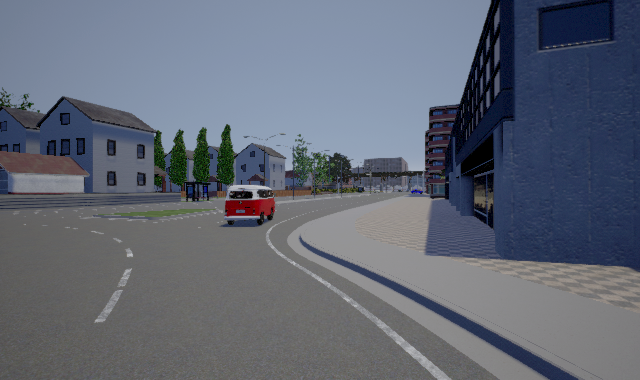vehicle: (224, 185, 276, 225)
